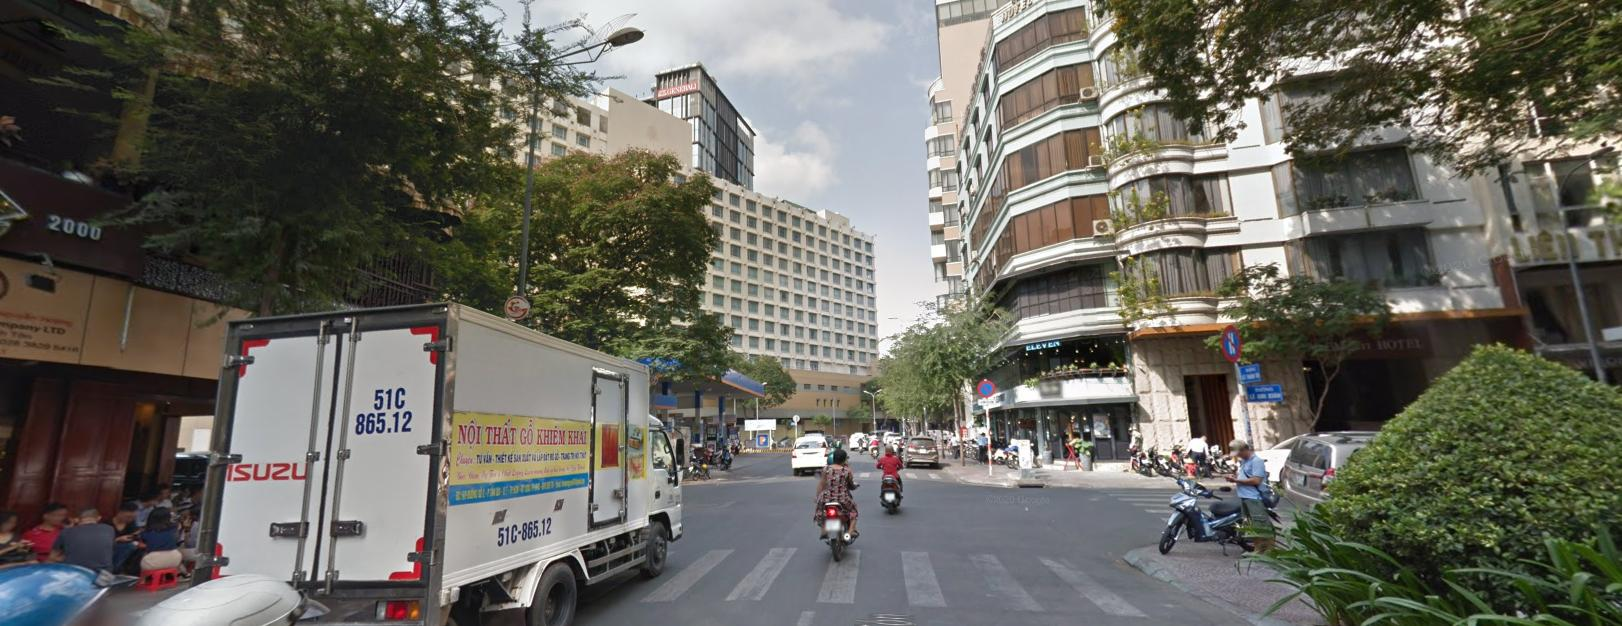Cam dung va do: (1220, 323, 1240, 359), (977, 378, 995, 395)
